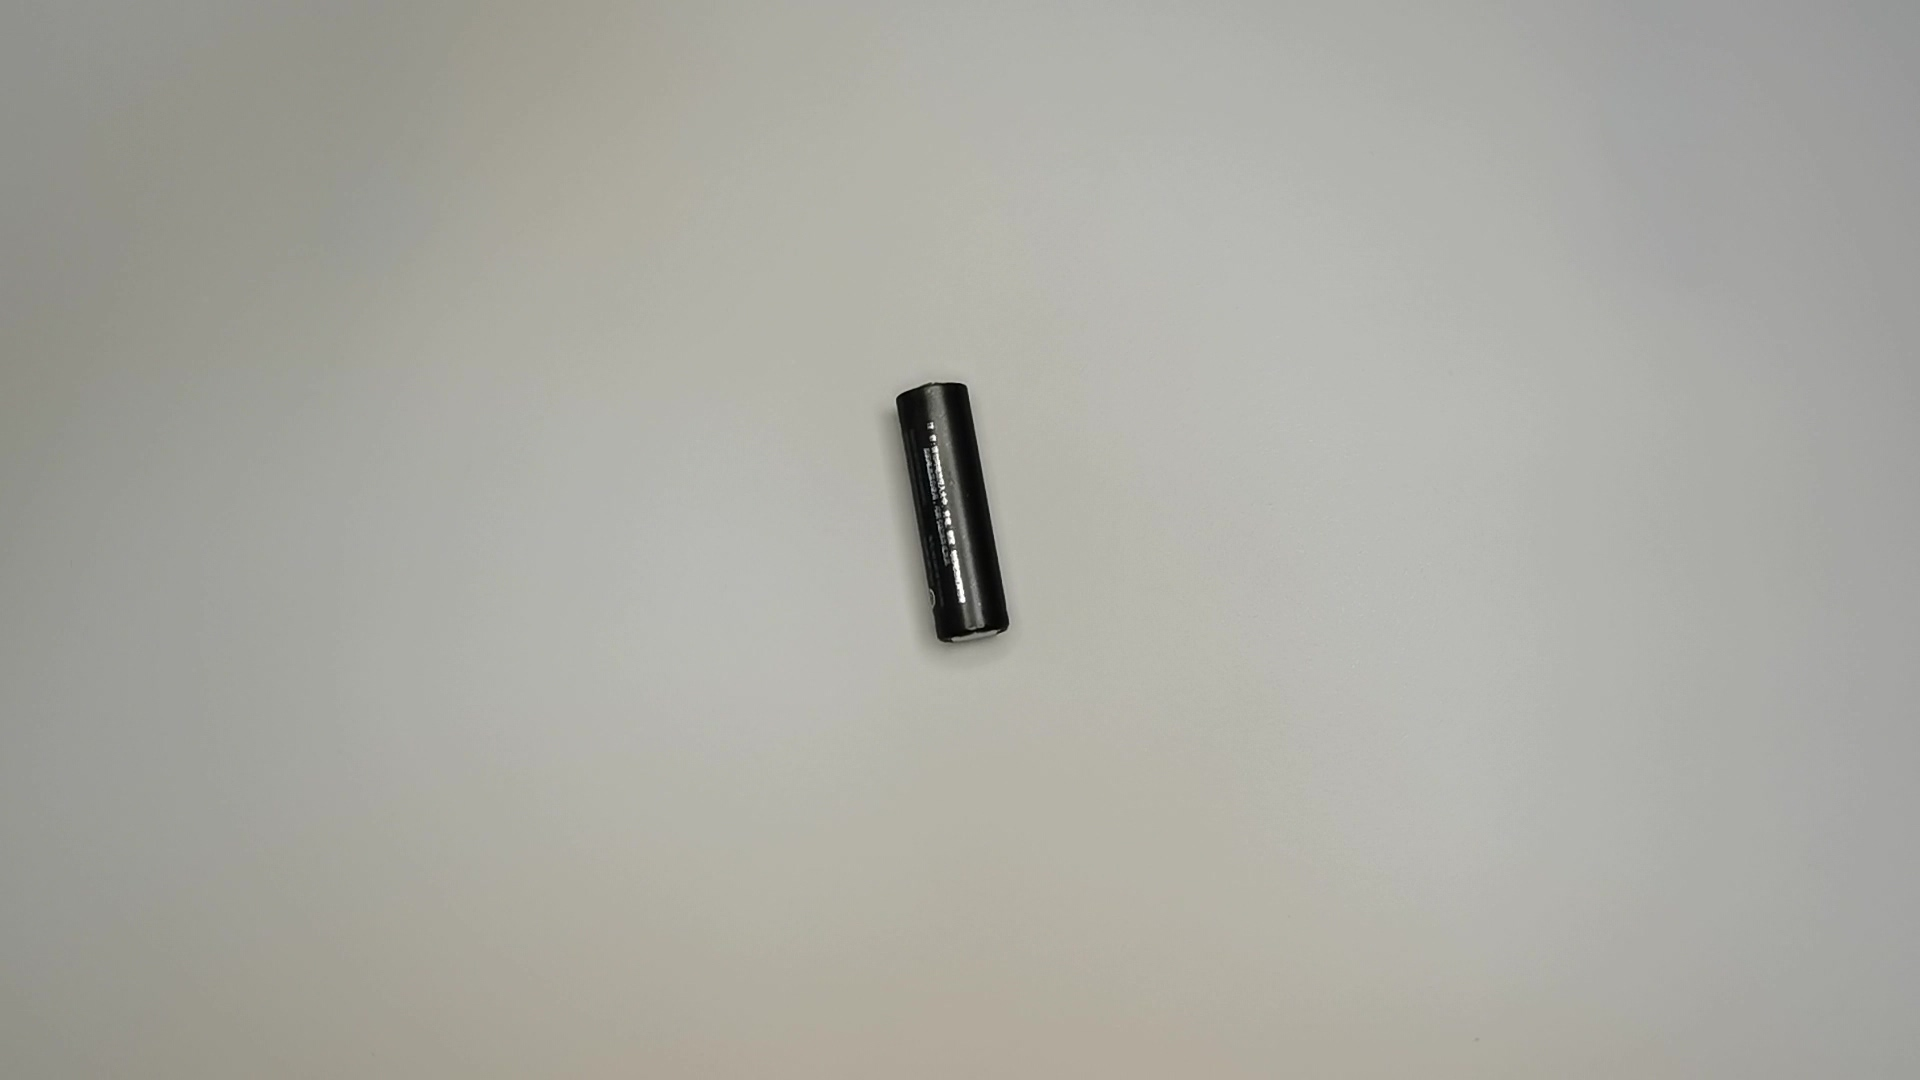battery: (886, 375, 1022, 646)
